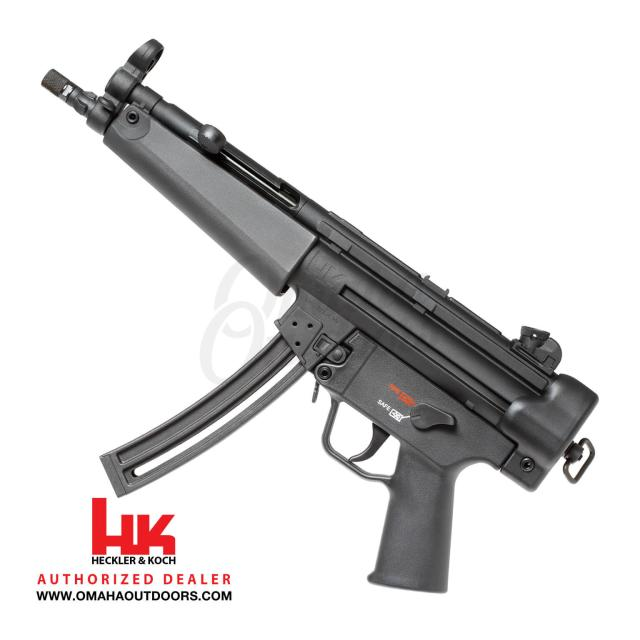SMG: (40, 40, 600, 596)
